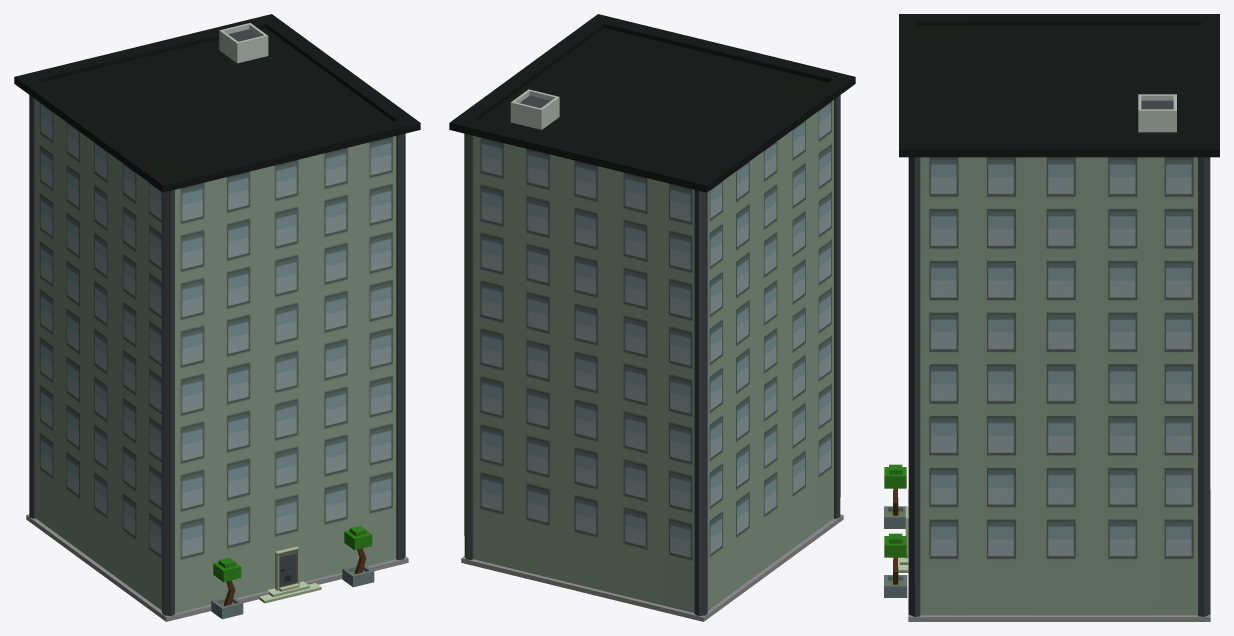
Rendered from publicservice_2.glb.
3 renders of one model, left to right at view 1: azimuth 30°, elevation 25°; view 2: azimuth 150°, elevation 25°; view 3: azimuth 270°, elevation 25°, orthographic. The views are drawn at different scales.
Parts seen in each view (by area): view 1: Sky Scraper Green One; view 2: Sky Scraper Green One; view 3: Sky Scraper Green One.
Part boxes in pixels (x1,y1,x2,y2): Sky Scraper Green One: [14, 14, 420, 621]; Sky Scraper Green One: [449, 14, 855, 621]; Sky Scraper Green One: [884, 14, 1219, 621].
Bounding box in the file's own units: 0.9699 × 1.65 × 1.02.
Materials: 1 (1 with a texture image).
